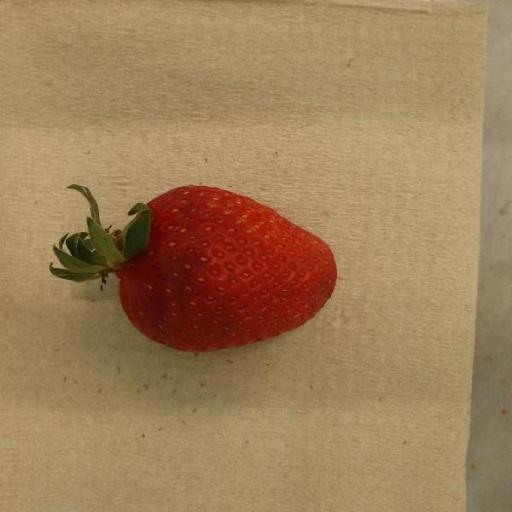Strawberry: (49, 184, 338, 353)
